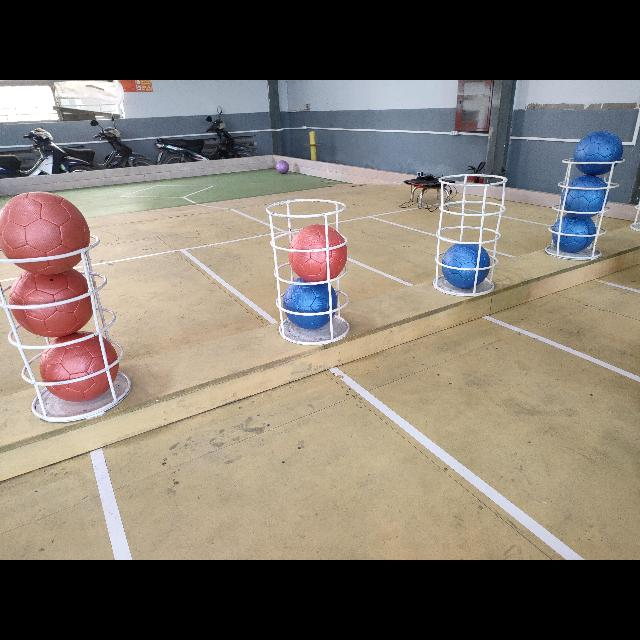B: (284, 277, 338, 327), (443, 239, 491, 289), (575, 132, 623, 174), (562, 174, 604, 218), (552, 211, 596, 253)
R: (0, 190, 92, 272), (7, 270, 94, 334), (40, 334, 119, 400), (288, 222, 348, 282)
